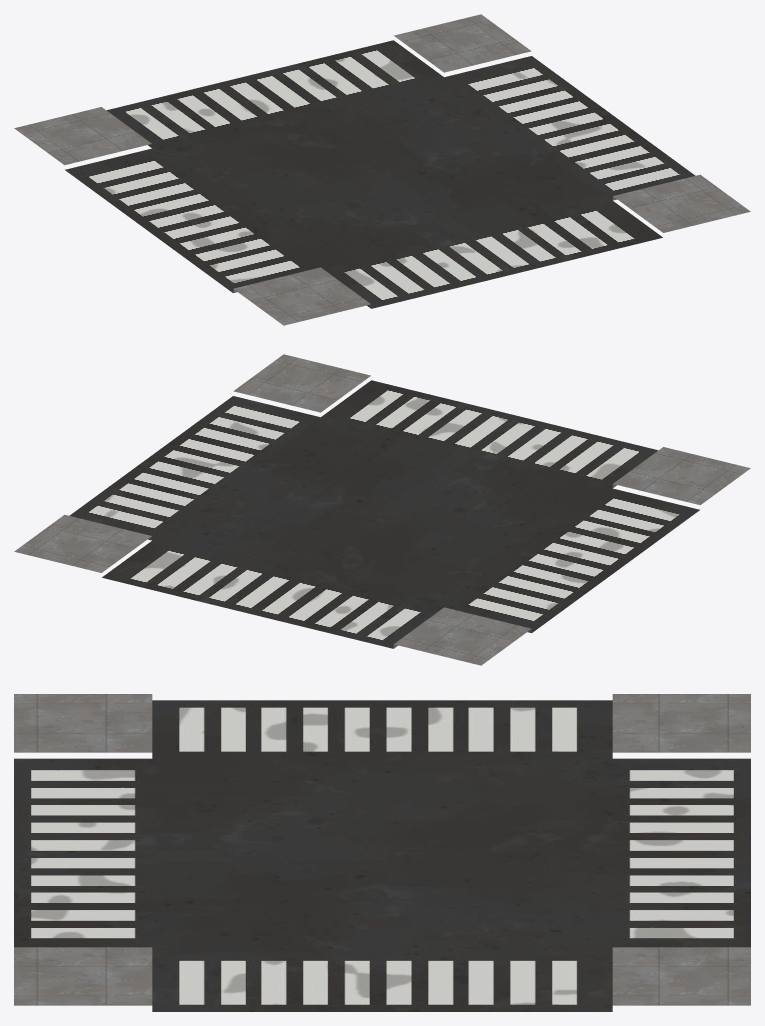
File: road-cross.glb
3 renders of one model, top to bottom at view 1: azimuth 30°, elevation 25°; view 2: azimuth 150°, elevation 25°; view 3: azimuth 270°, elevation 25°, orthographic. The views are drawn at different scales.
Visible parts, largest first — view 1: road-cross; view 2: road-cross; view 3: road-cross.
Part boxes in pixels (bbox=[...]): road-cross: bbox=[14, 14, 750, 325]; road-cross: bbox=[14, 354, 750, 665]; road-cross: bbox=[14, 694, 750, 1011].
Bounding box in the file's own units: 16 × 0.15 × 16.
2 materials, 2 textured.
